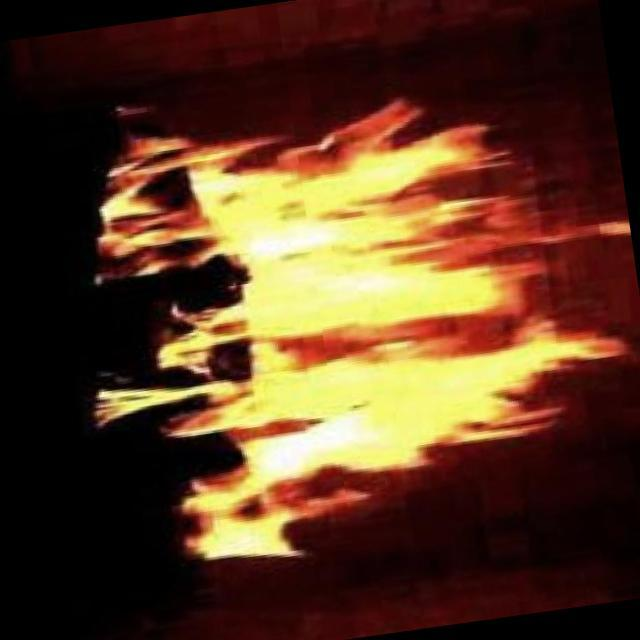Fire: (161, 83, 613, 503)
